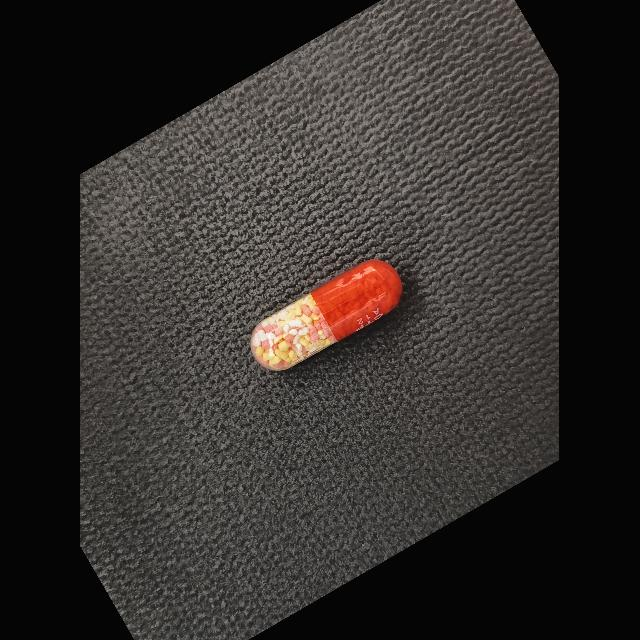Intact Capsule: (251, 260, 403, 370)
